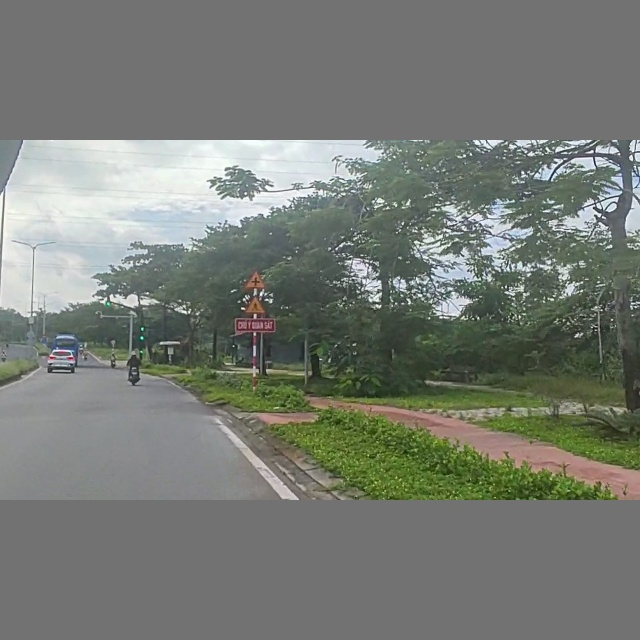W.205a: (243, 271, 266, 289)
W.224: (244, 295, 267, 313)
